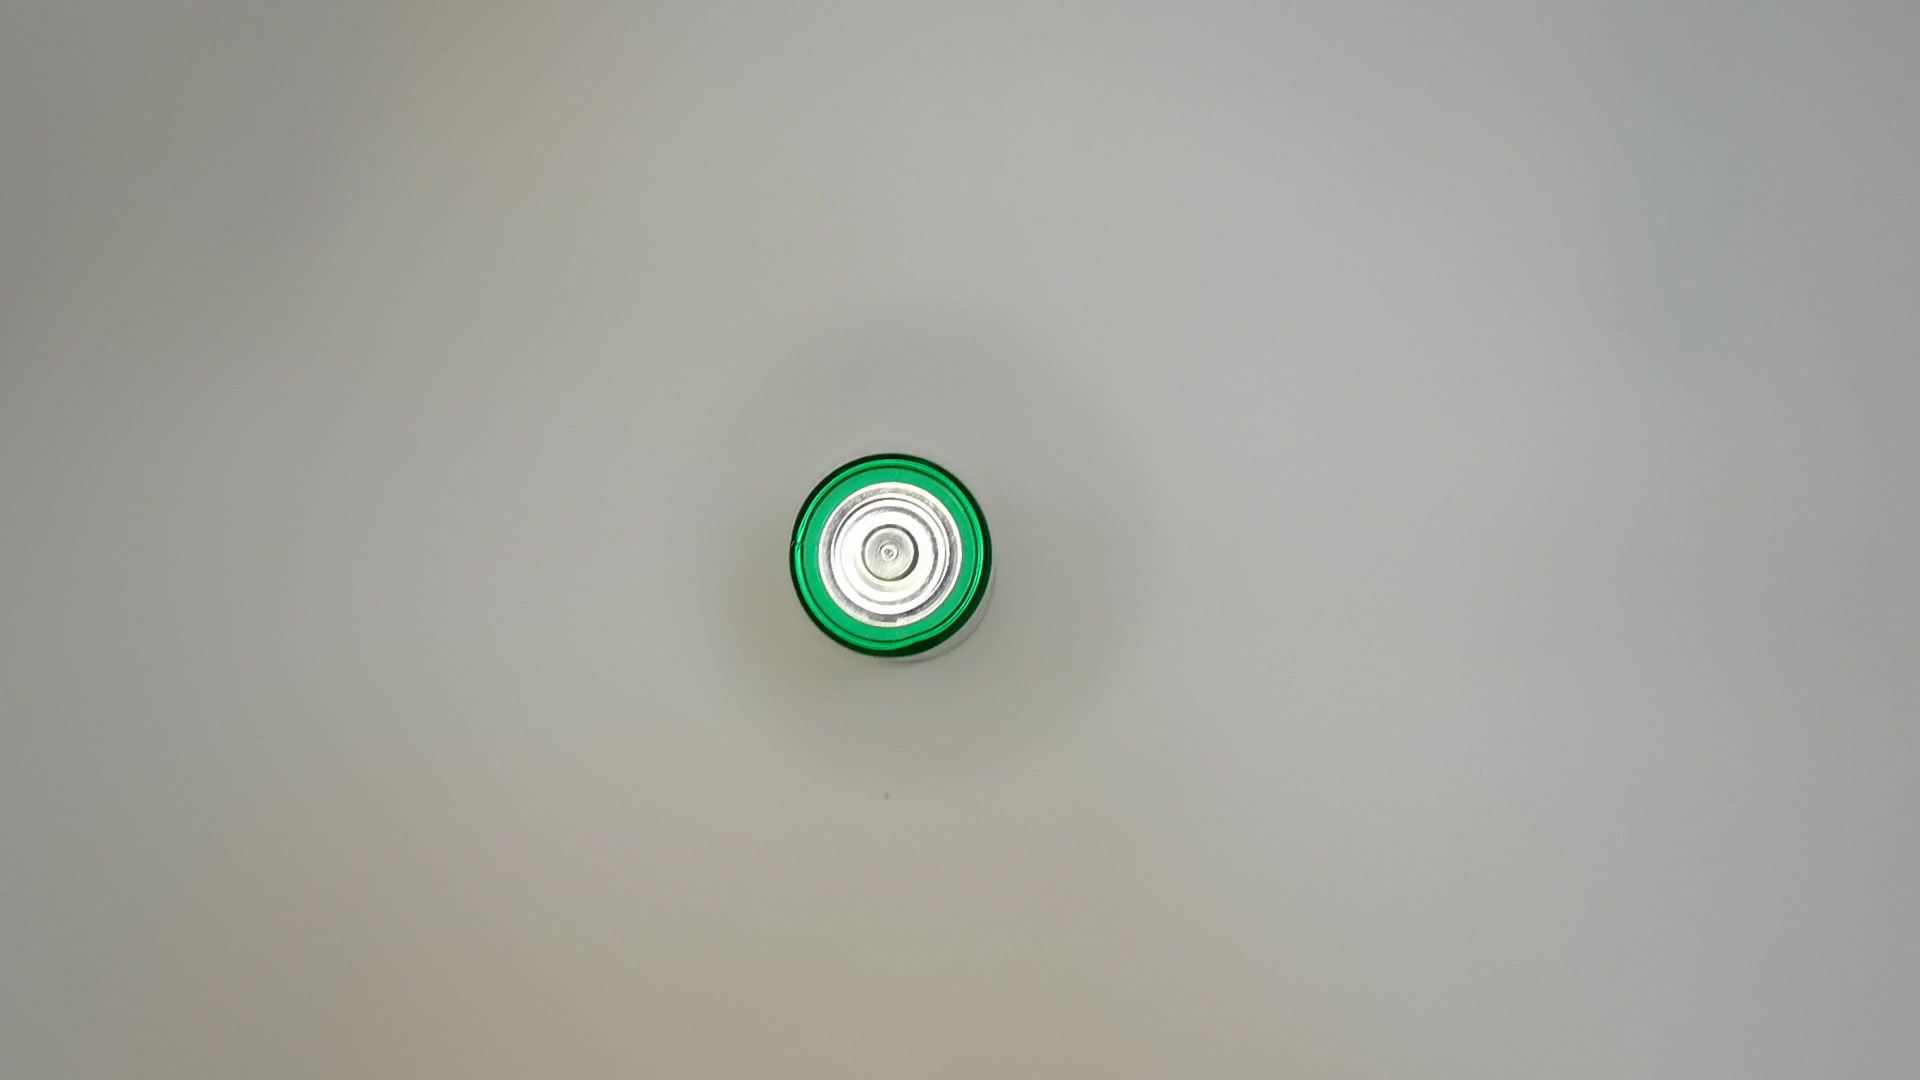battery: (791, 448, 997, 671)
